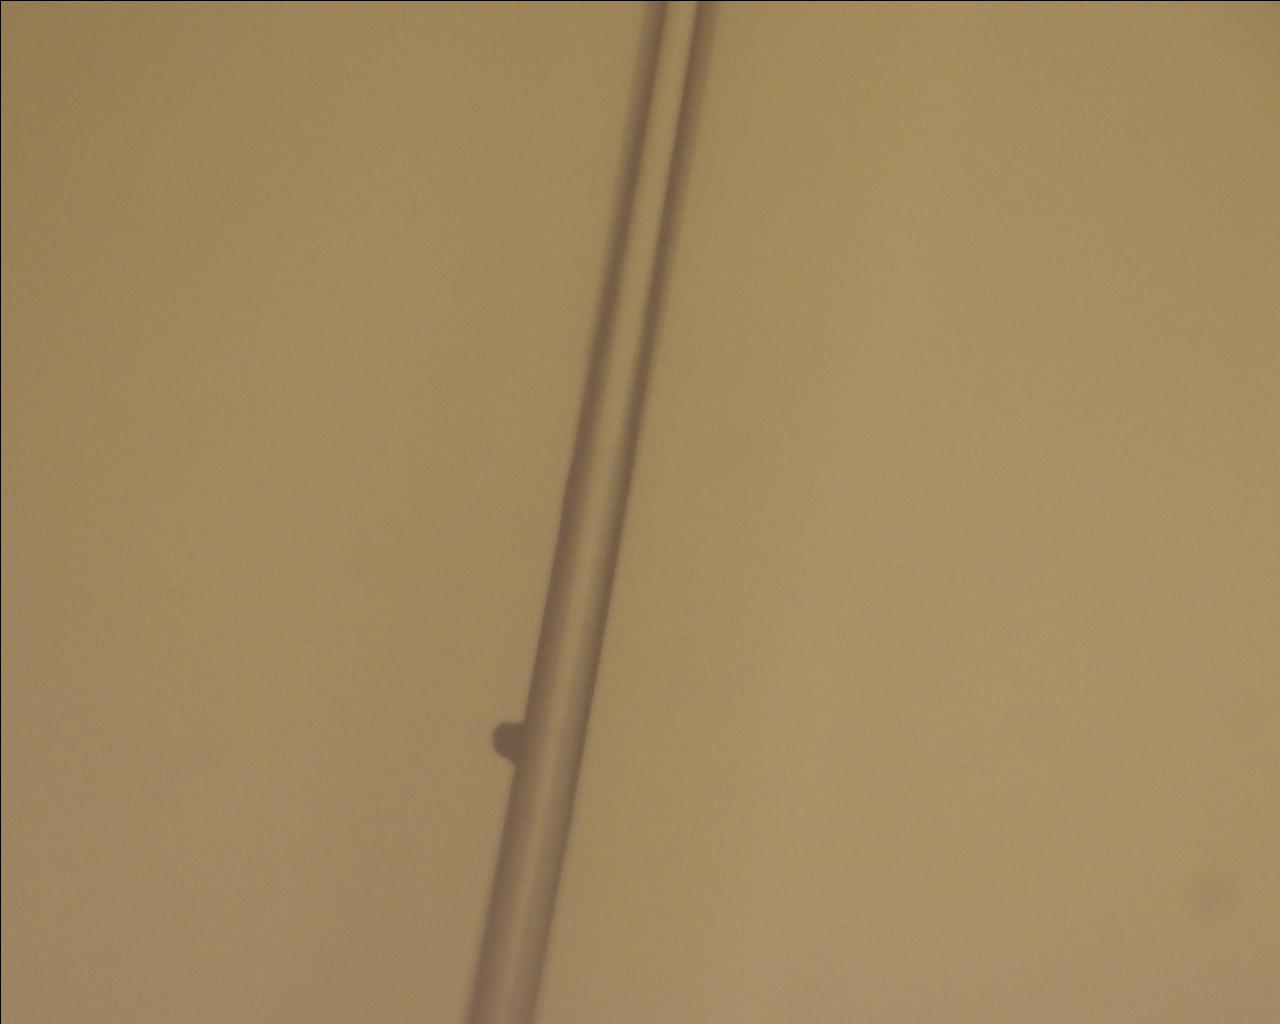fiber: (0, 32, 704, 236), (404, 634, 598, 1024)
